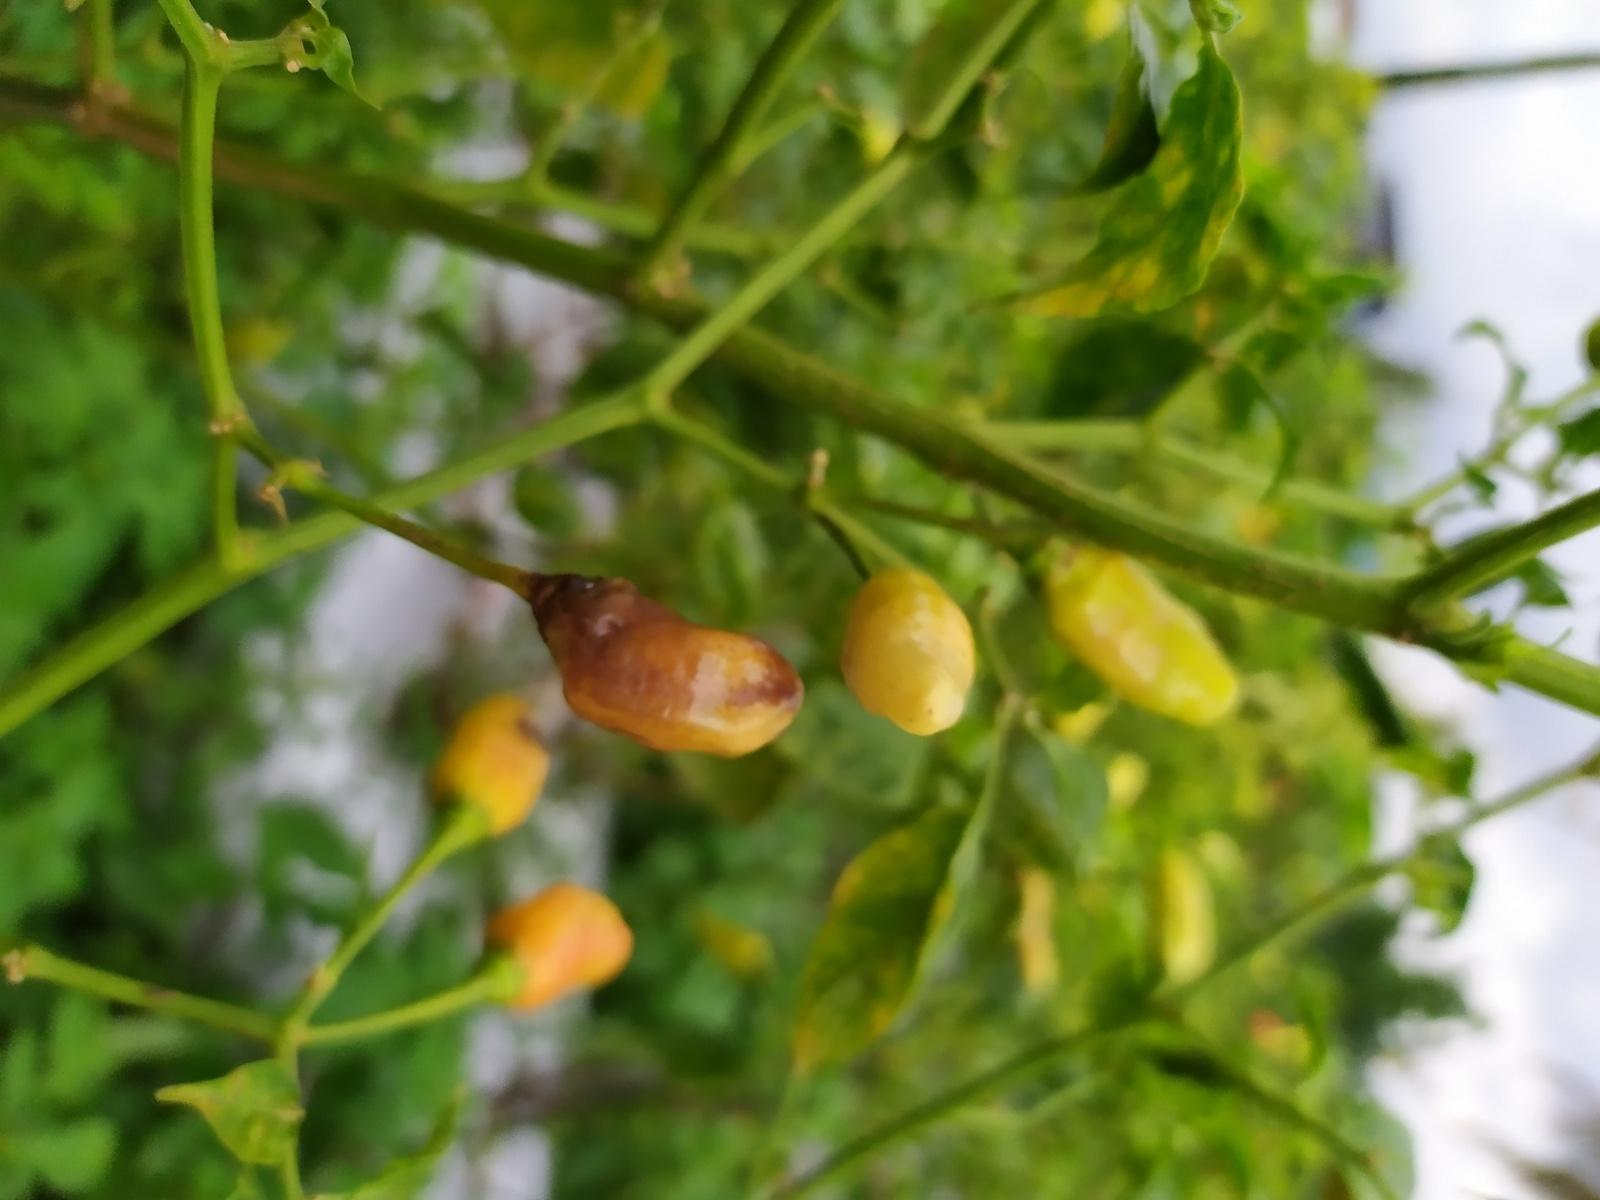cabai_normal: (1026, 541, 1243, 727), (838, 571, 978, 735), (479, 884, 635, 1011)
lalat_buah: (527, 575, 806, 760), (423, 688, 549, 838)
